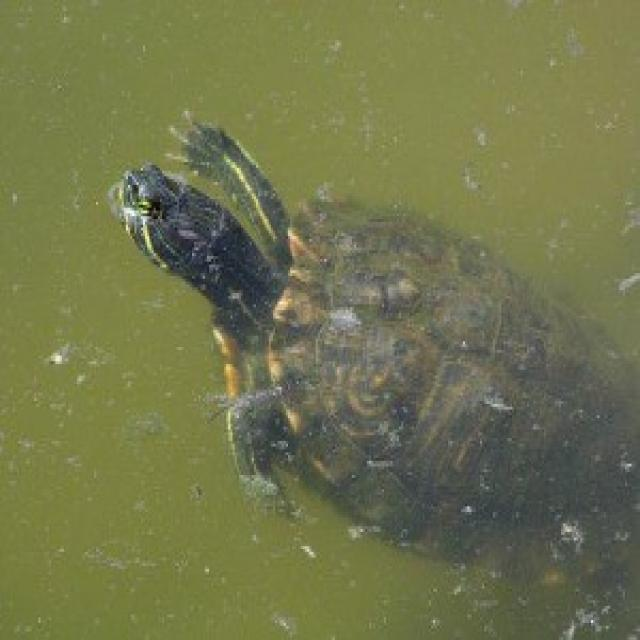Sea turtle: (97, 110, 640, 612)
